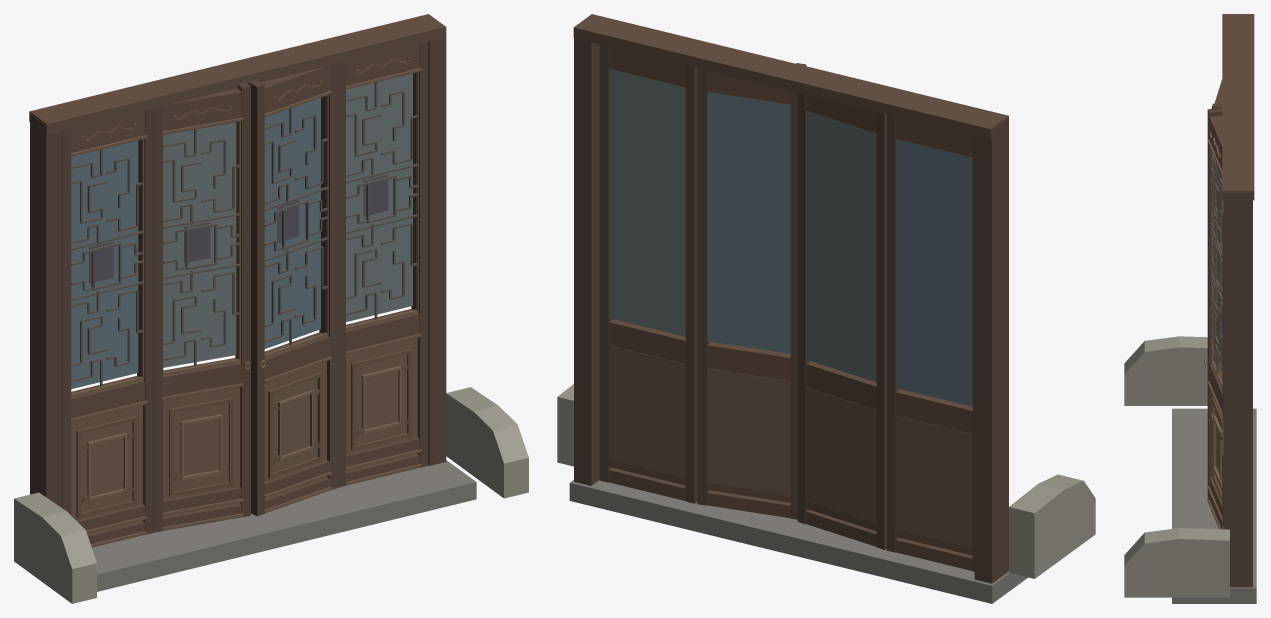
Rendered from pudong-yuda-store-number-169-four-glazed-doors-lod.glb.
3 views of the same model, side by side, from view 1: azimuth 30°, elevation 25°; view 2: azimuth 150°, elevation 25°; view 3: azimuth 270°, elevation 25° (orthographic). The views are drawn at different scales.
Parts seen in each view (by area): view 1: 裕大南货店新场大街169号四扇木门与石门枕; view 2: 裕大南货店新场大街169号四扇木门与石门枕; view 3: 裕大南货店新场大街169号四扇木门与石门枕.
Boxes of the visible parts, x1,y1,x2,y2 form: 裕大南货店新场大街169号四扇木门与石门枕: (14, 14, 528, 603); 裕大南货店新场大街169号四扇木门与石门枕: (557, 14, 1095, 603); 裕大南货店新场大街169号四扇木门与石门枕: (1124, 14, 1256, 603).
Size of the model in its own units: 2.48 by 2.35 by 0.685.
